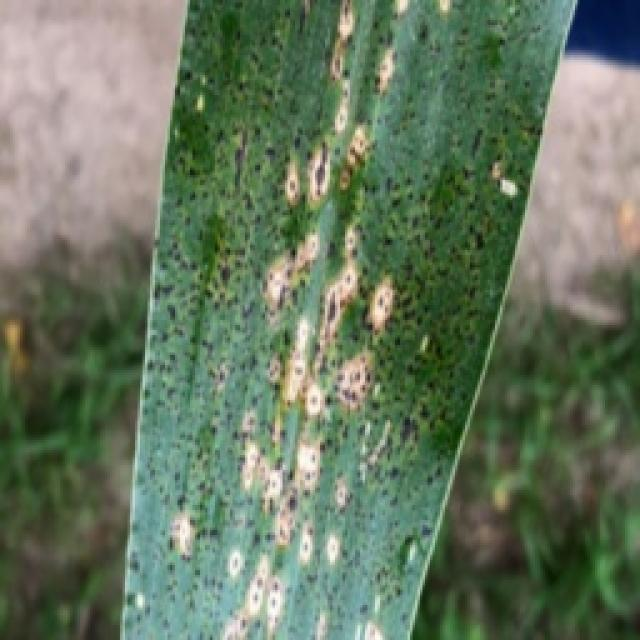Tar_Spot: (203, 46, 462, 415)
